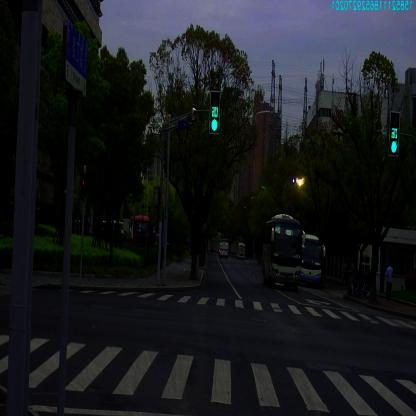traffic-light: (389, 112, 400, 156), (210, 92, 219, 134)
